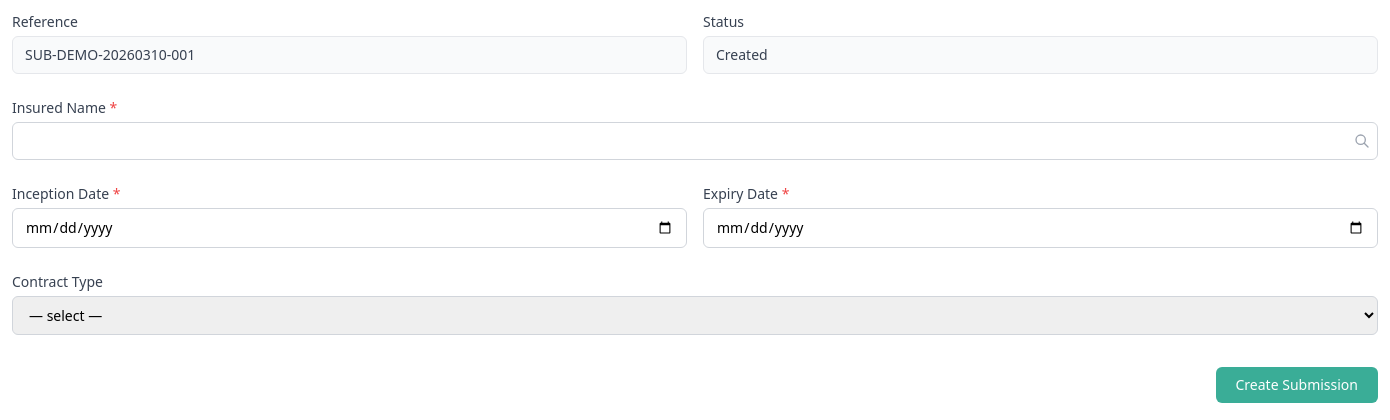
Test case: T-FORM-submissions-R02: inception date auto-populates expiry › auto-fills expiry to +1 year when expiry is blank
Type "2026-03-10" into the date field labelled "Inception Date *" at (350, 228), box [12, 208, 687, 248]
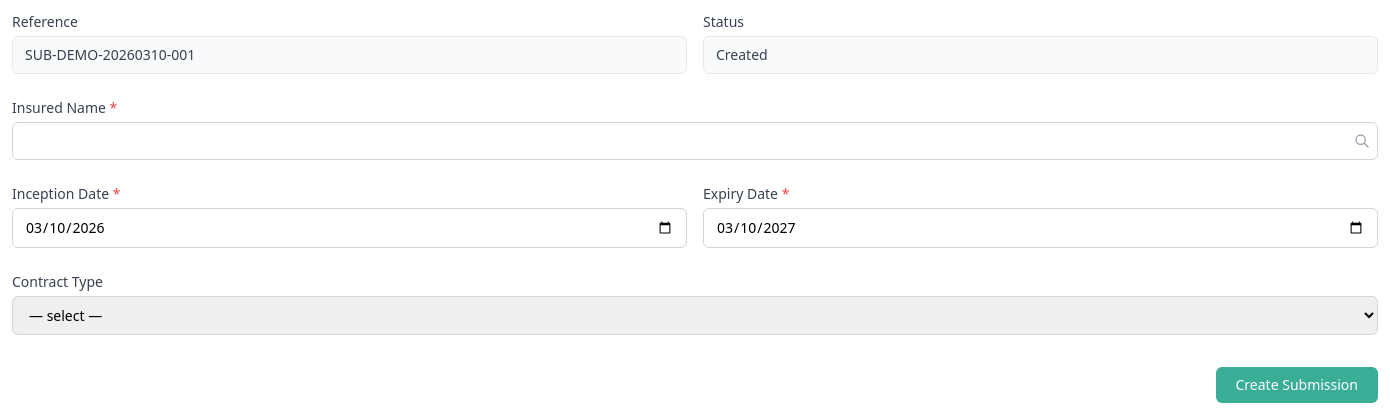
Result: the date field labelled "Expiry Date *" holds "2027-03-10" at [703, 208, 1378, 248]
